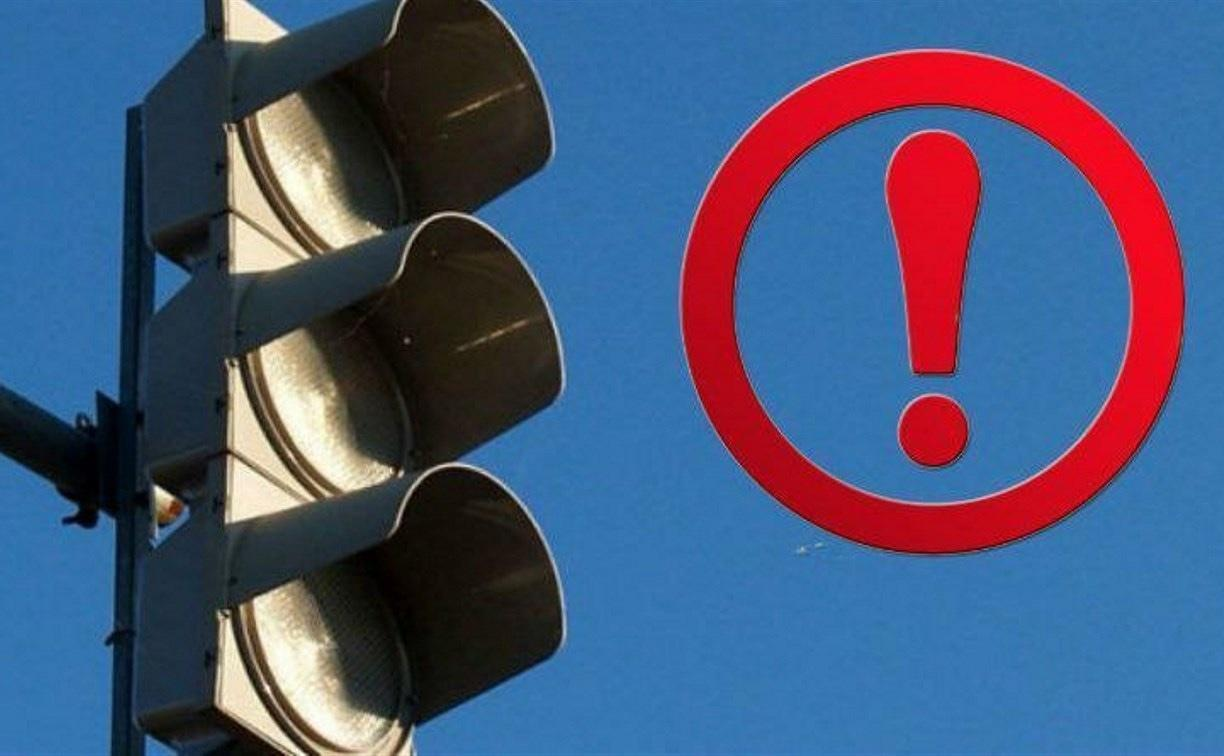off traffic light: (110, 0, 563, 755)
